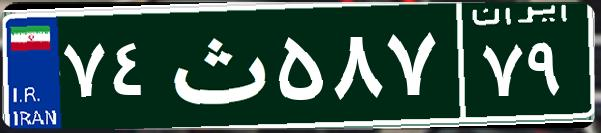4: (110, 28, 158, 105)
5: (273, 28, 330, 110)
7: (385, 28, 445, 110), (57, 26, 110, 107), (475, 38, 525, 113)
8: (330, 28, 385, 110)
9: (525, 38, 570, 115)
ث: (158, 15, 273, 115)
